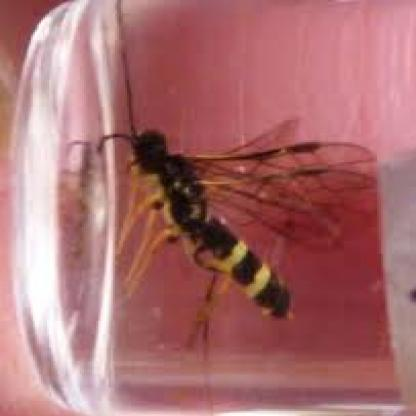sawfly: (82, 71, 384, 364)
